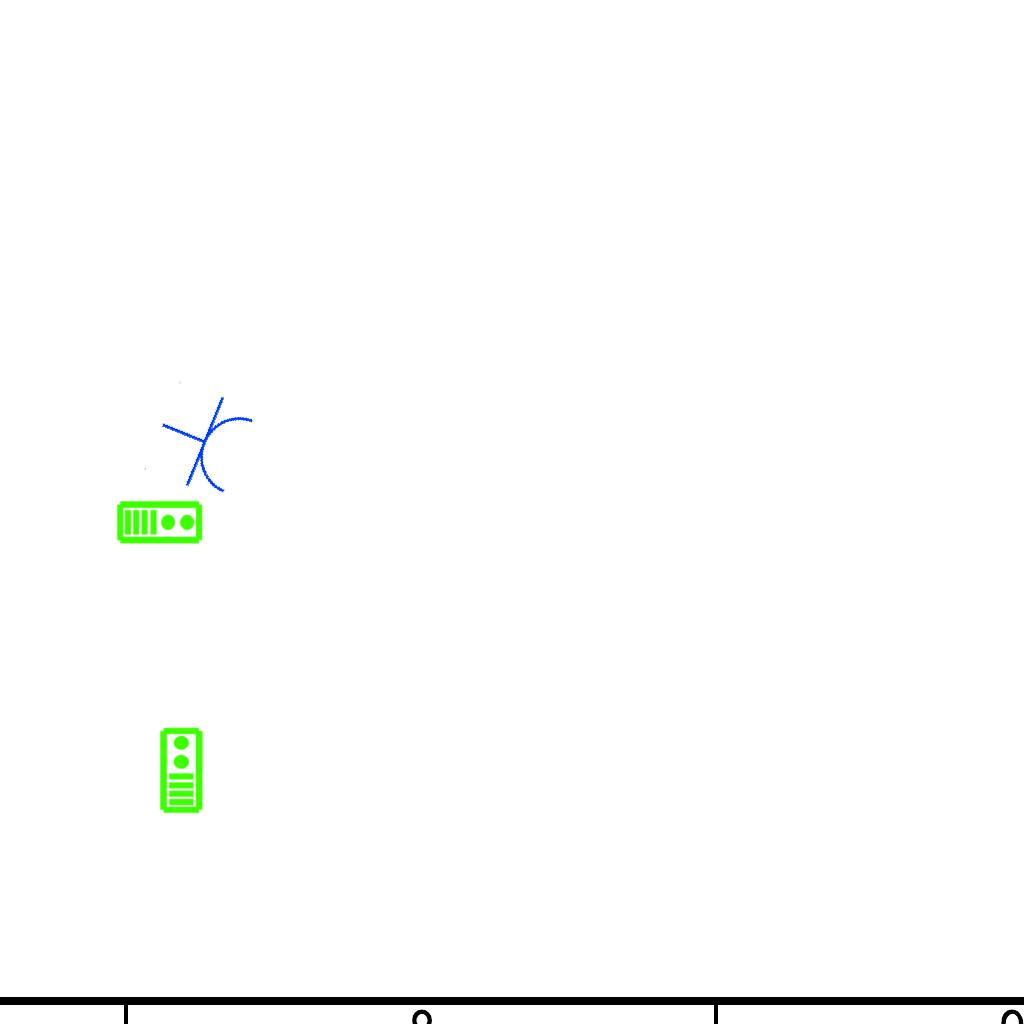Gegensprechanlage_mit_Video: (116, 498, 204, 545), (157, 726, 204, 814)
Schukosteckdose_einfach: (142, 378, 262, 505)
